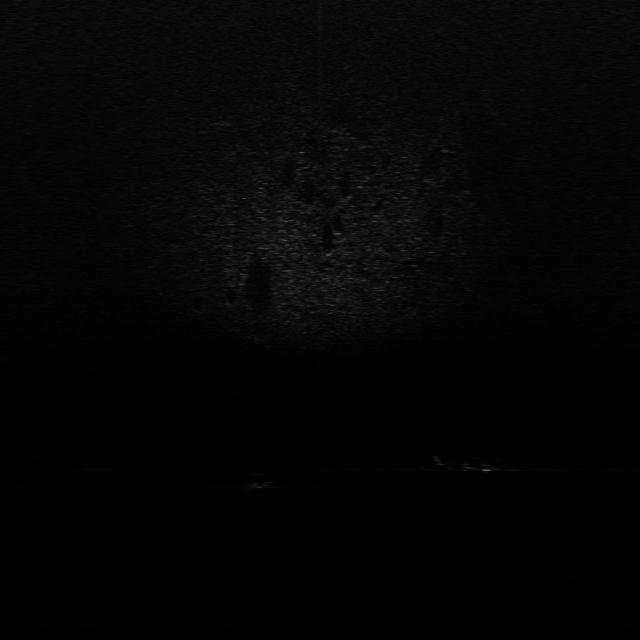ball: (248, 469, 276, 492)
human body: (420, 448, 514, 476)
